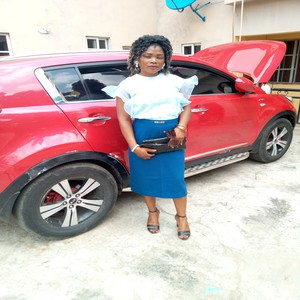Fulokoja_female_student: (115, 33, 193, 231)
